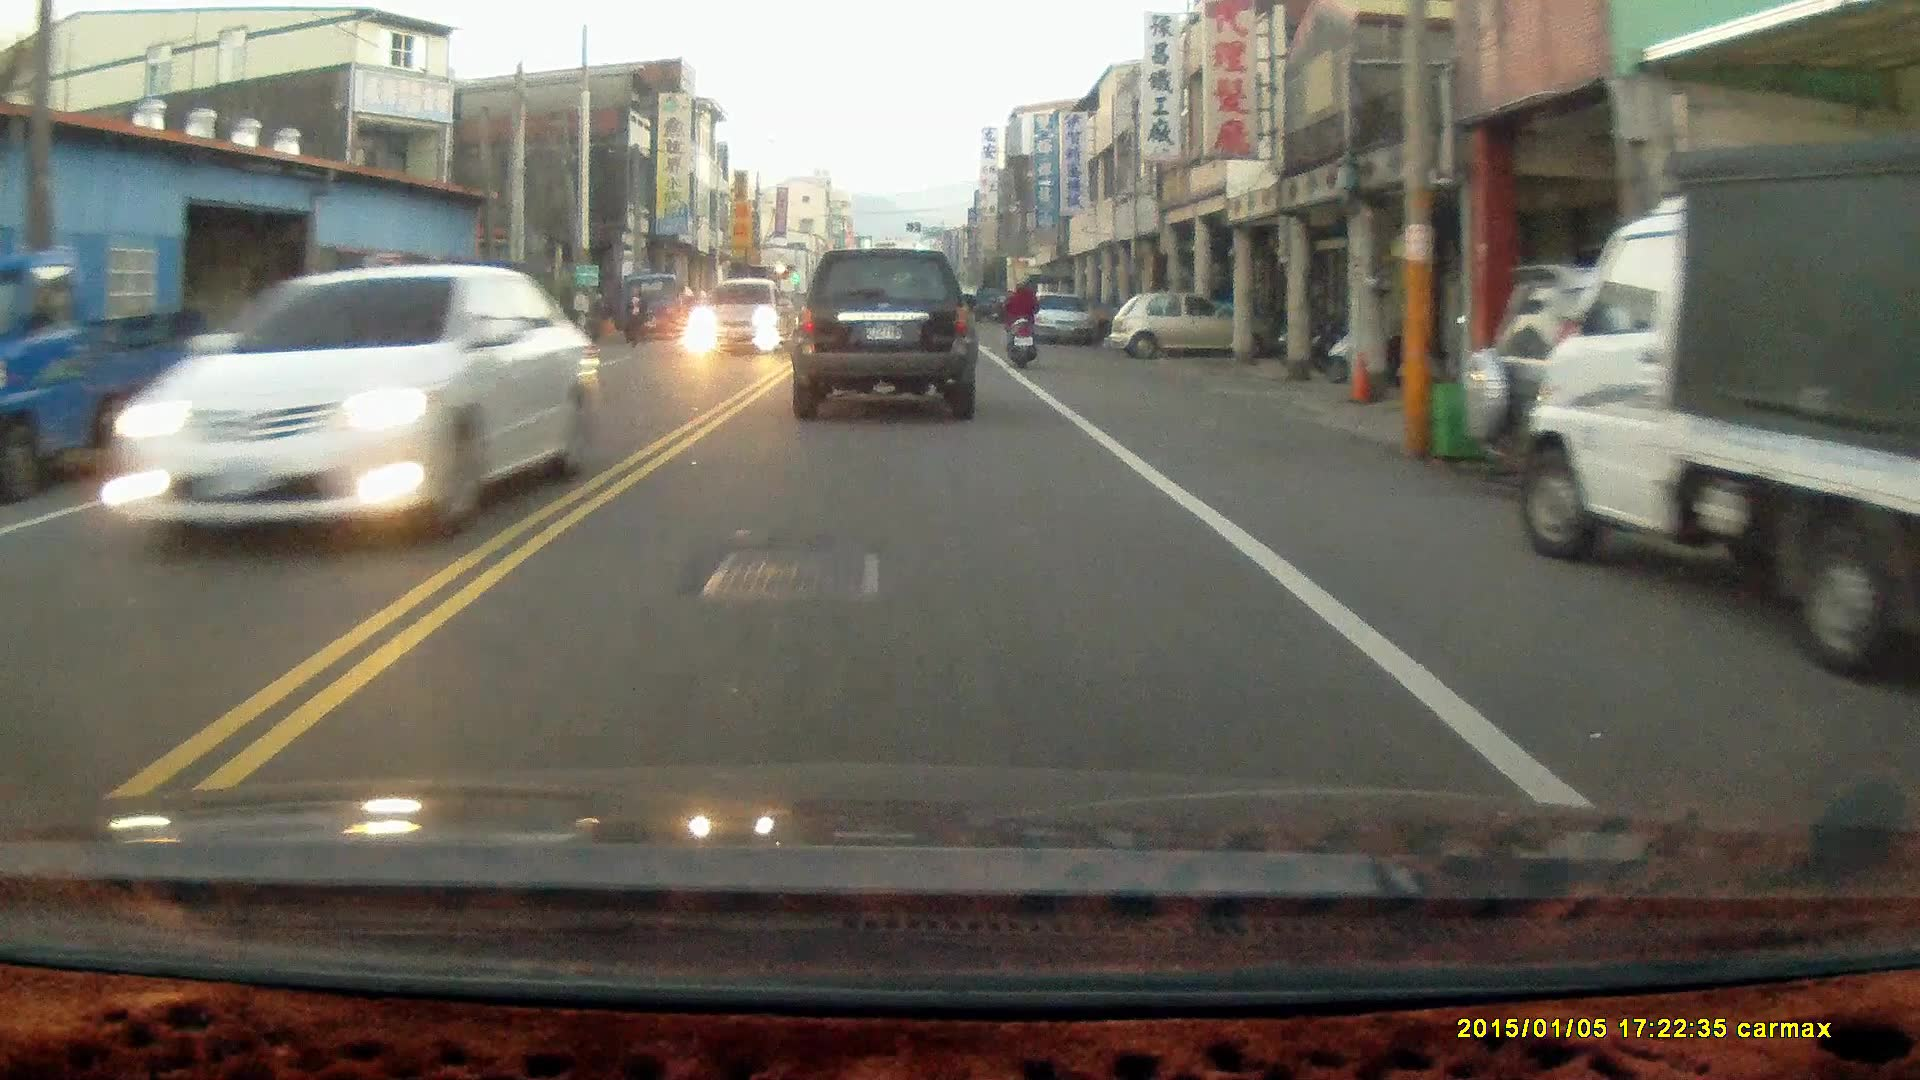pedestrian: (625, 285, 646, 345)
rider: (1004, 274, 1041, 369)
vehicle: (1521, 135, 1920, 695), (78, 266, 605, 548), (1461, 269, 1919, 500), (787, 250, 982, 427), (1109, 294, 1248, 364), (691, 281, 795, 361), (1027, 293, 1099, 347)
